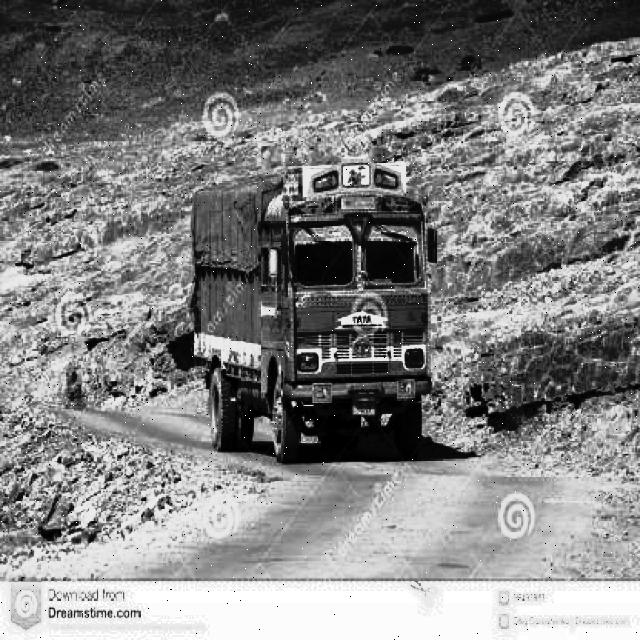HCV: (160, 160, 434, 455)
